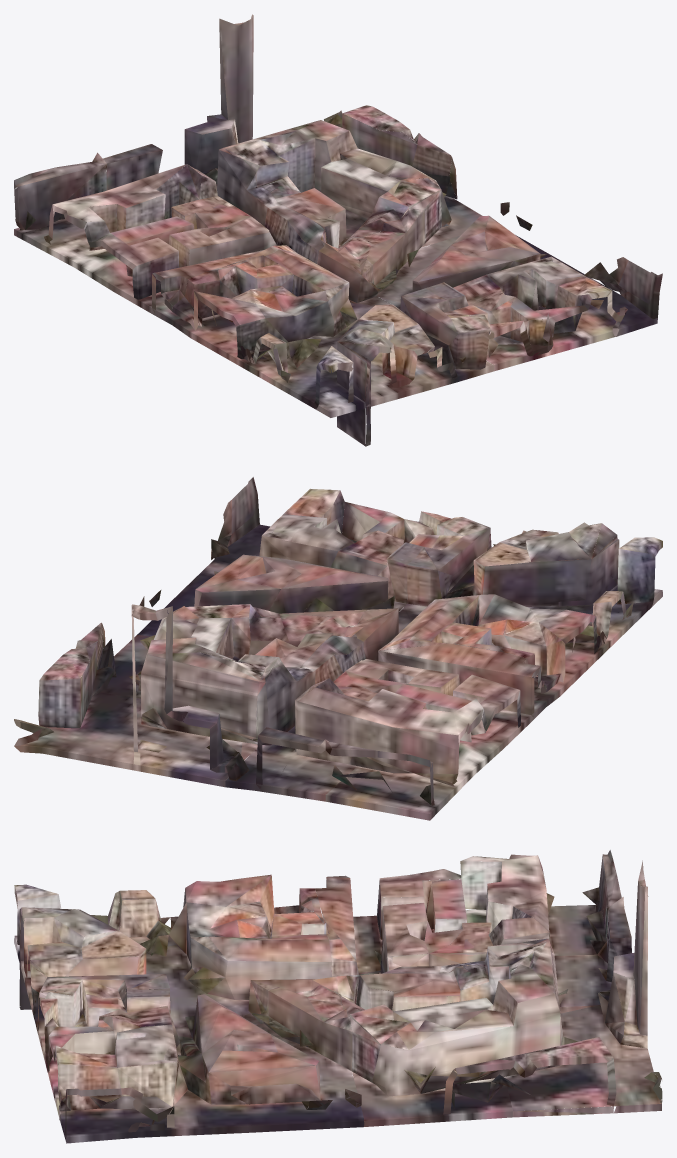
3 renders of one model, top to bottom at view 1: azimuth 30°, elevation 25°; view 2: azimuth 150°, elevation 25°; view 3: azimuth 270°, elevation 25°, orthographic. The views are drawn at different scales.
Visible parts, largest first — view 1: Mesh_0; view 2: Mesh_0; view 3: Mesh_0.
Part boxes in pixels (box(x1,y1,x2,y2)): Mesh_0: box(14, 14, 662, 446); Mesh_0: box(14, 477, 662, 820); Mesh_0: box(14, 850, 662, 1143).
Bounding box in the file's own units: 270 × 123 × 330.
2 materials, 2 textured.
